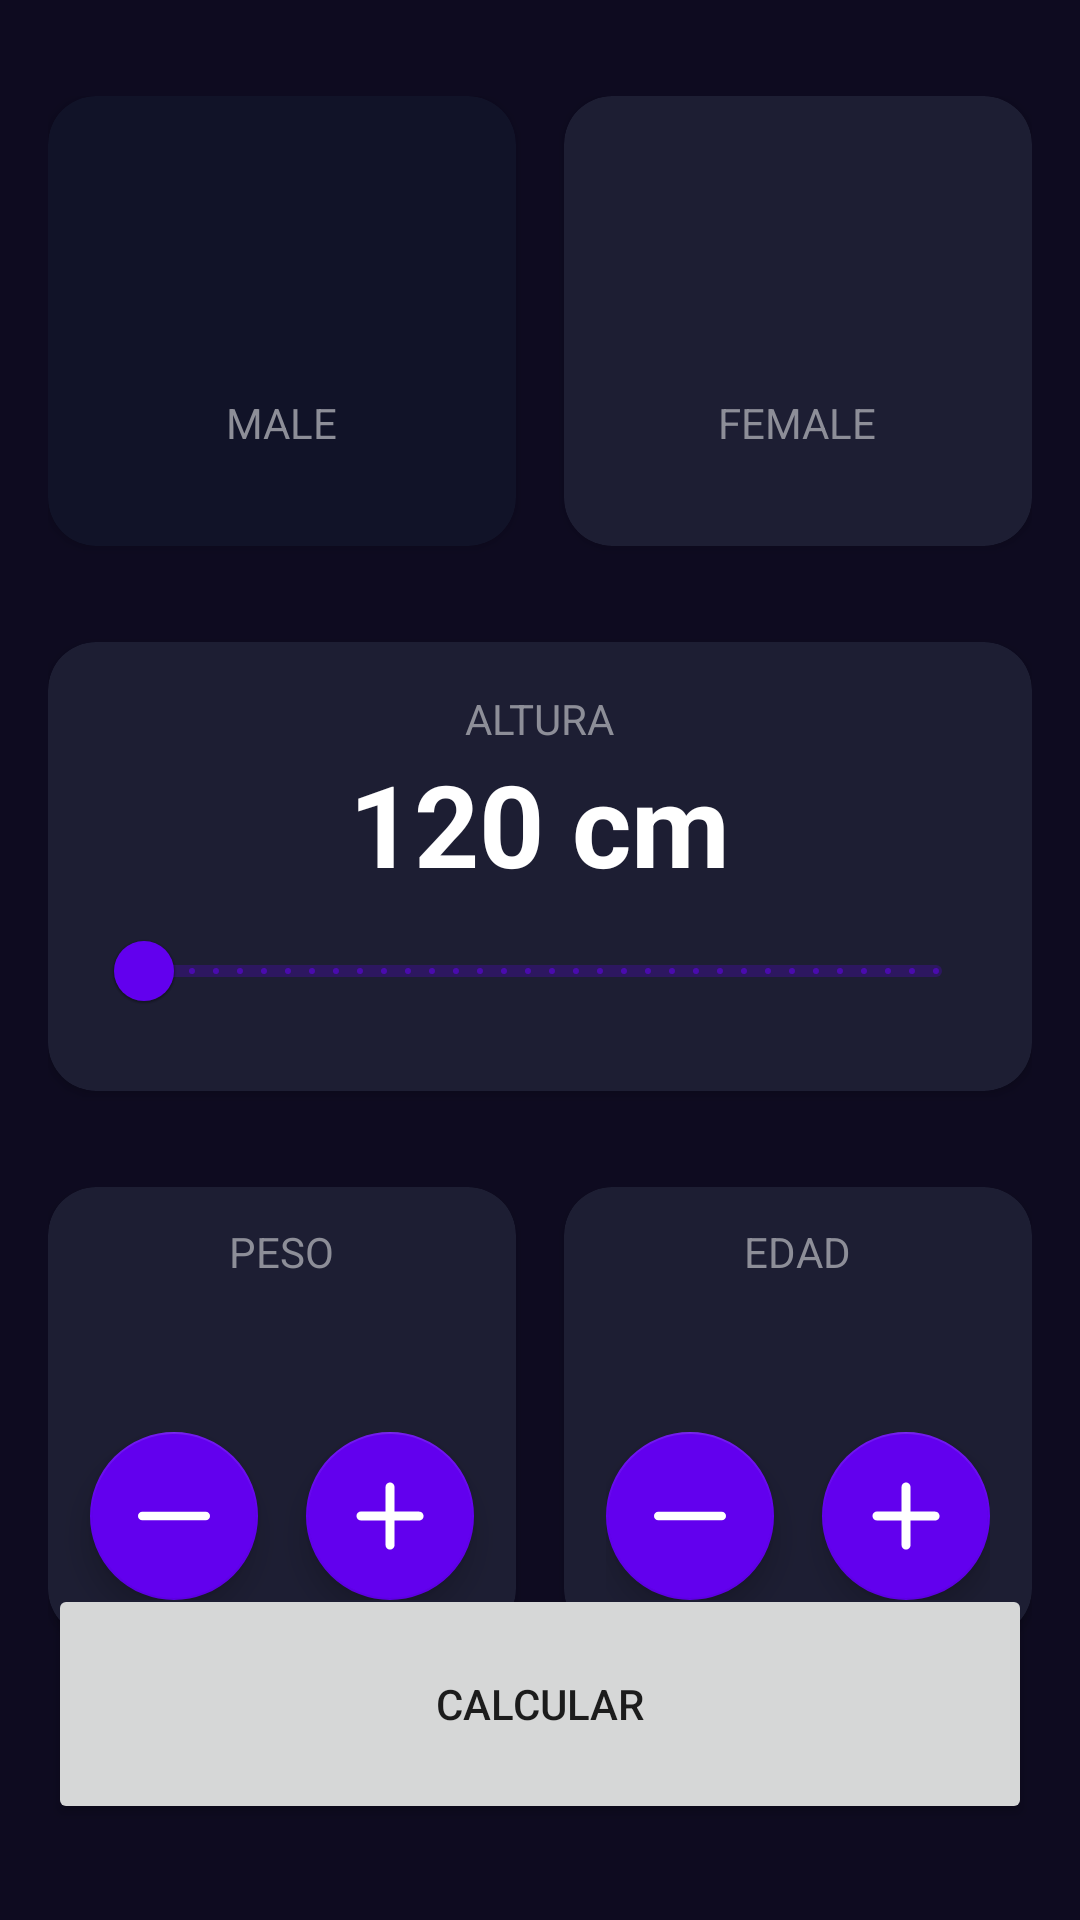

Icons on this 1080×1920 Android screen, each with its box as (x1, y1, x2, y2):
plus: (306, 1432, 474, 1600), (822, 1432, 990, 1600)
subtract: (90, 1432, 258, 1600), (606, 1432, 774, 1600)
